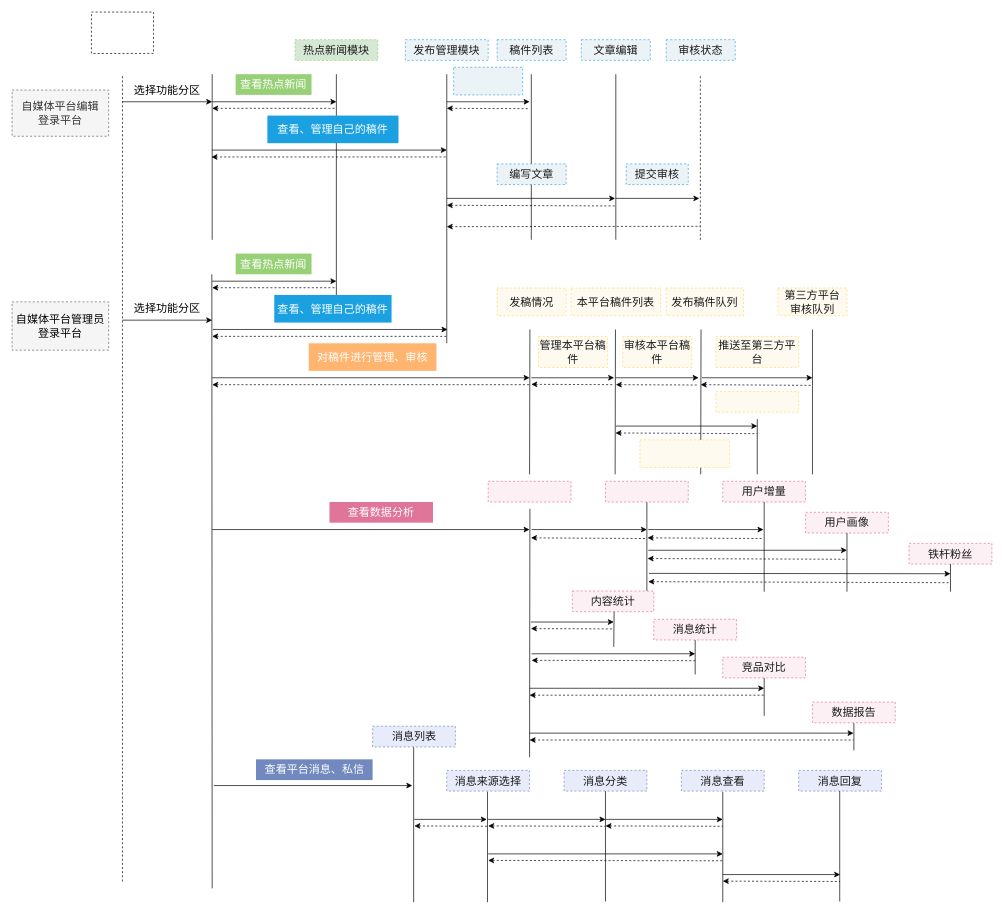
Some shapes in this 1004 by 915 pixel diagram are drawn without their labels. Here are the shapes that lost their labels. From the top down, the centre of each, then its label:
(x=122, y=32): 用户登录
(x=488, y=81): 查看自己的 全部稿件
(x=757, y=401): 归档稿件列表
(x=684, y=453): 归档本平台稿件
(x=529, y=491): 数据分析模块
(x=646, y=491): 自营账号数据
